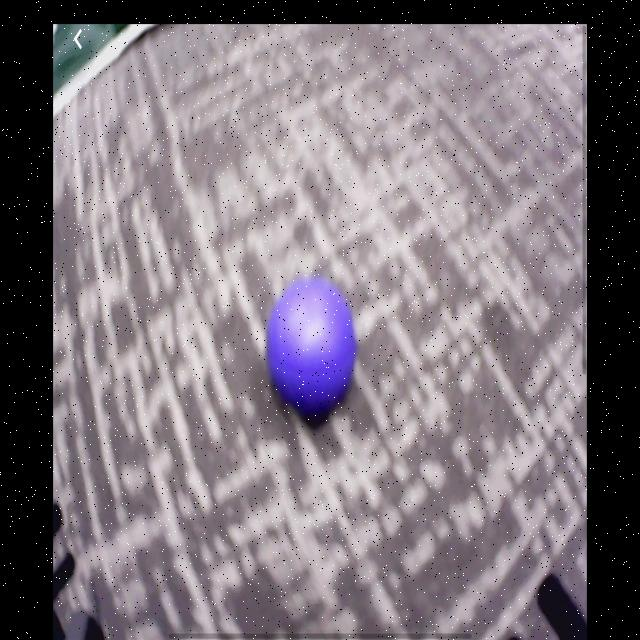ball: (271, 279, 358, 412)
